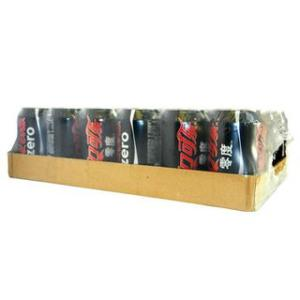coke_zero: (207, 107, 266, 178), (160, 106, 211, 169), (113, 106, 160, 167), (16, 106, 50, 156)
